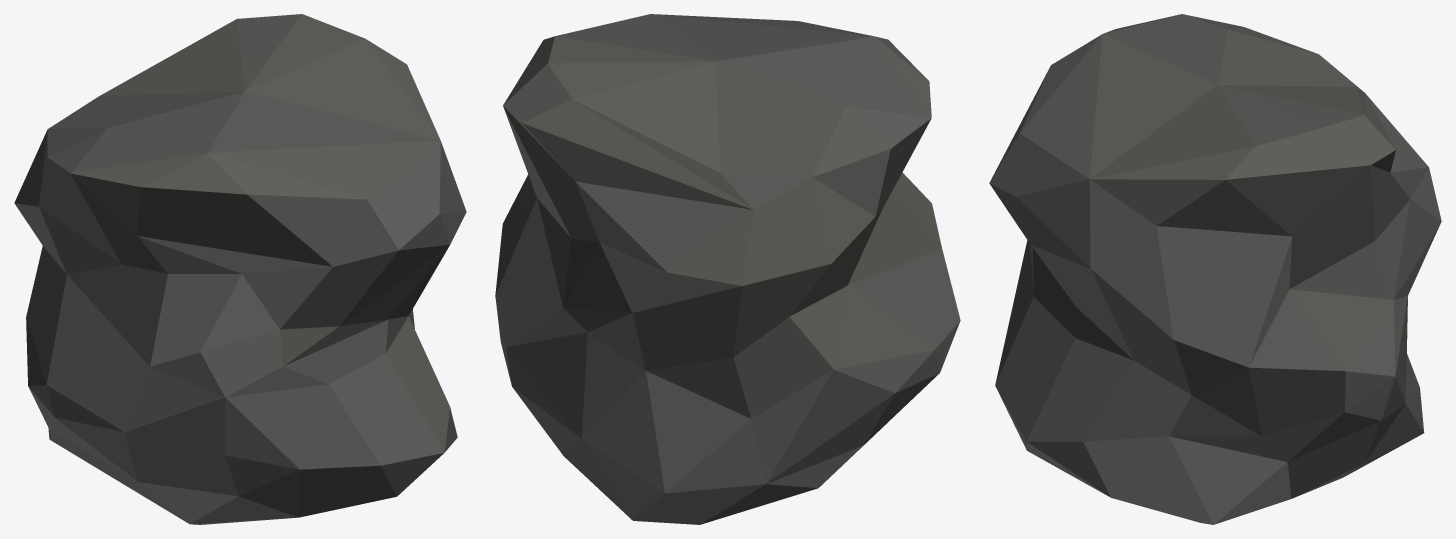
File: SM_Envr_Nature_Rock_10.fbx
The picture shows the model from 3 angles, left to right: view 1: azimuth 30°, elevation 25°; view 2: azimuth 150°, elevation 25°; view 3: azimuth 270°, elevation 25°; orthographic projection. The views are drawn at different scales.
Parts seen in each view (by area): view 1: SM_Envr_Nature_Rock_10; view 2: SM_Envr_Nature_Rock_10; view 3: SM_Envr_Nature_Rock_10.
Boxes of the visible parts, x1,y1,x2,y2 form: SM_Envr_Nature_Rock_10: (14,14,466,524); SM_Envr_Nature_Rock_10: (495,14,960,524); SM_Envr_Nature_Rock_10: (989,14,1441,524).
Bounding box in the file's own units: 215 × 201 × 215.
